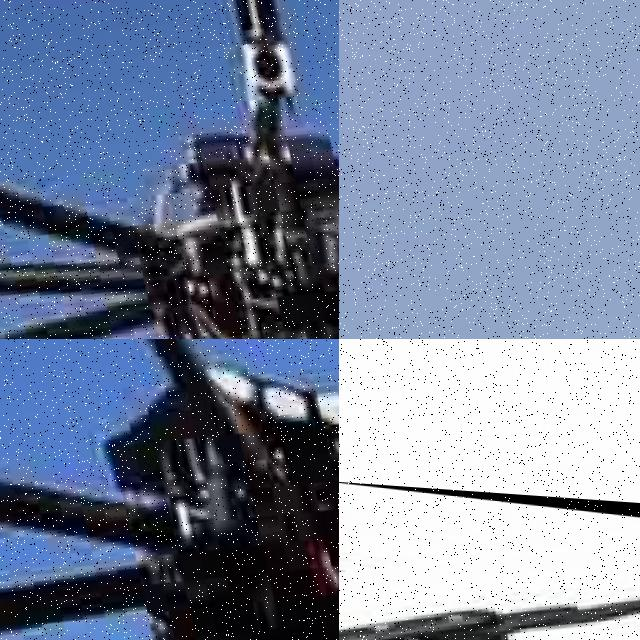0: (0, 0, 339, 339), (0, 339, 339, 640)
drone: (339, 480, 640, 640)
